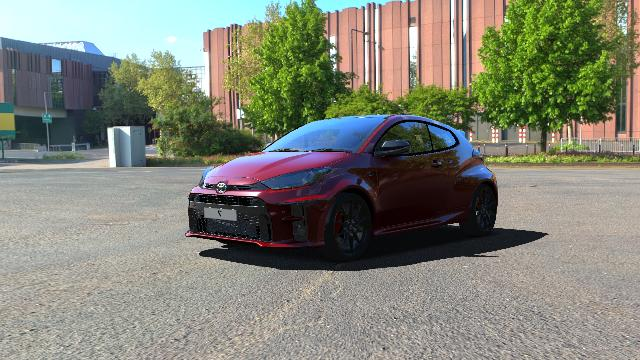License Plate: (204, 208, 236, 220)
